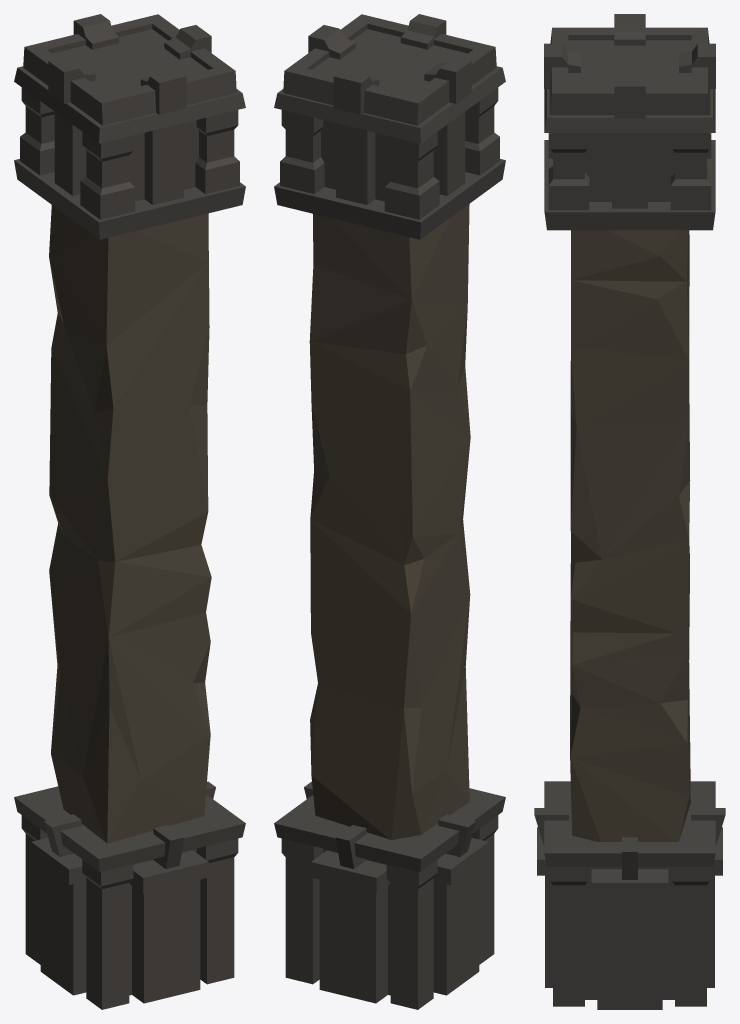
File: Pillar_1.fbx
3 views of the same model, side by side, from view 1: azimuth 30°, elevation 25°; view 2: azimuth 150°, elevation 25°; view 3: azimuth 270°, elevation 25° (orthographic).
Parts seen in each view (by area): view 1: polySurface1292; view 2: polySurface1292; view 3: polySurface1292.
Boxes of the visible parts, left/top/right/bottom form: polySurface1292: left=14, top=14, right=245, bottom=1009; polySurface1292: left=274, top=14, right=505, bottom=1009; polySurface1292: left=534, top=14, right=725, bottom=1009.
Bounding box in the file's own units: 2.04 × 10.86 × 2.04.
